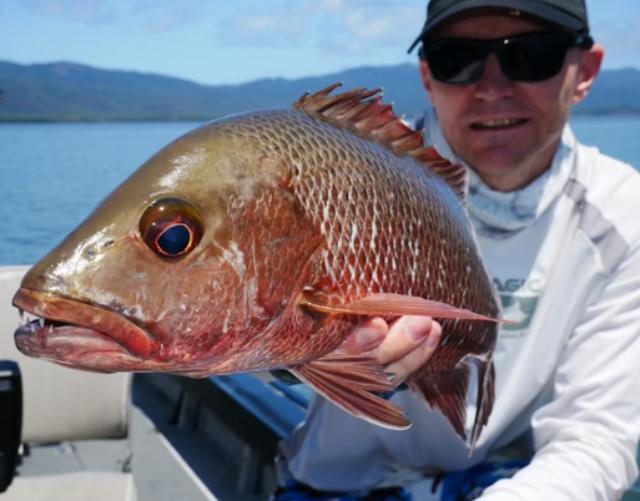Mulut: (3, 260, 191, 420)
Sirip Anal: (403, 344, 521, 463)
Sirip Dada: (292, 264, 544, 350)
Sirip Perut: (273, 341, 435, 449)
Sirip Punggung: (284, 70, 488, 220)
